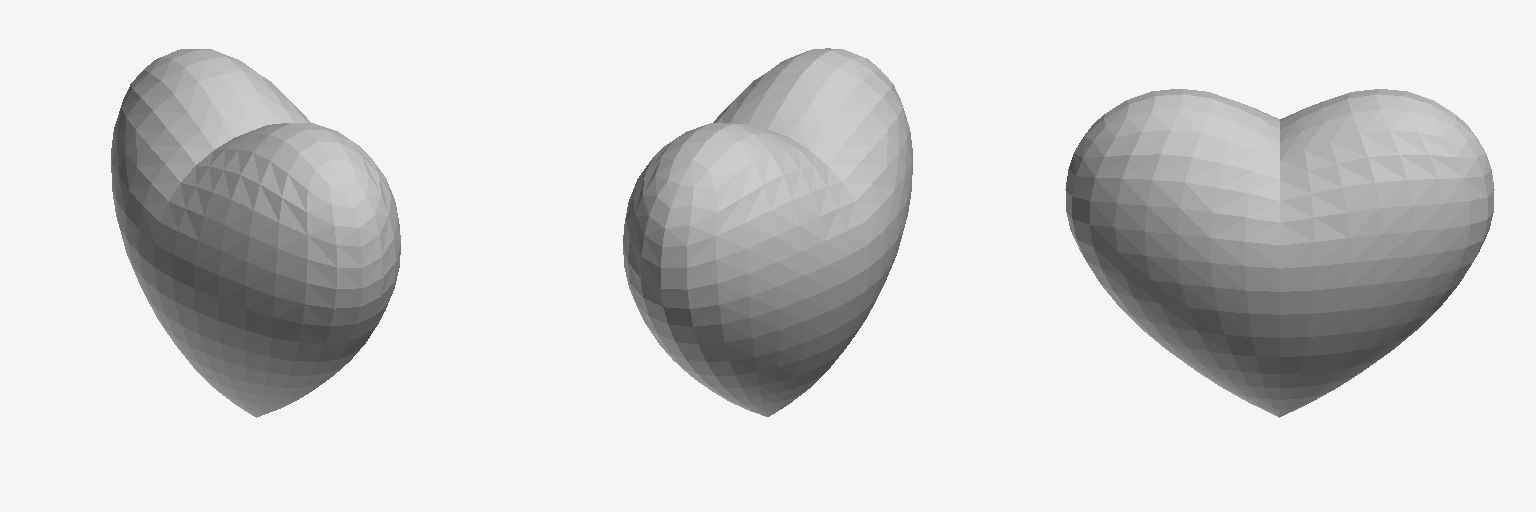
The model's file is heart.obj.
The picture shows the model from 3 angles: view 1: azimuth 30°, elevation 25°; view 2: azimuth 150°, elevation 25°; view 3: azimuth 270°, elevation 25°; orthographic projection.
Visible parts, largest first — view 1: the_heart; view 2: the_heart; view 3: the_heart.
Boxes of the visible parts, x1,y1,x2,y2 form: the_heart: [111, 49, 400, 417]; the_heart: [623, 48, 912, 416]; the_heart: [1065, 89, 1494, 417].
Size of the model in its own units: 0.4709 by 0.7138 by 0.8585.